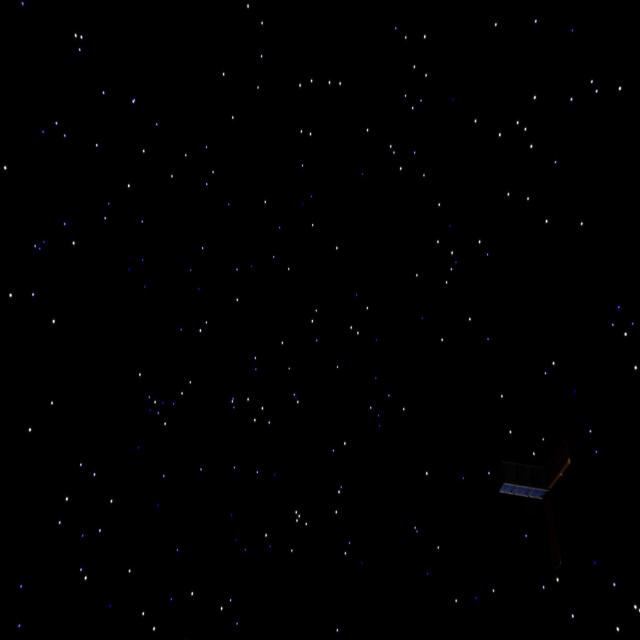medium_debris: (494, 424, 584, 580)
